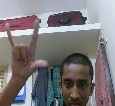hand: (5, 18, 48, 84)
